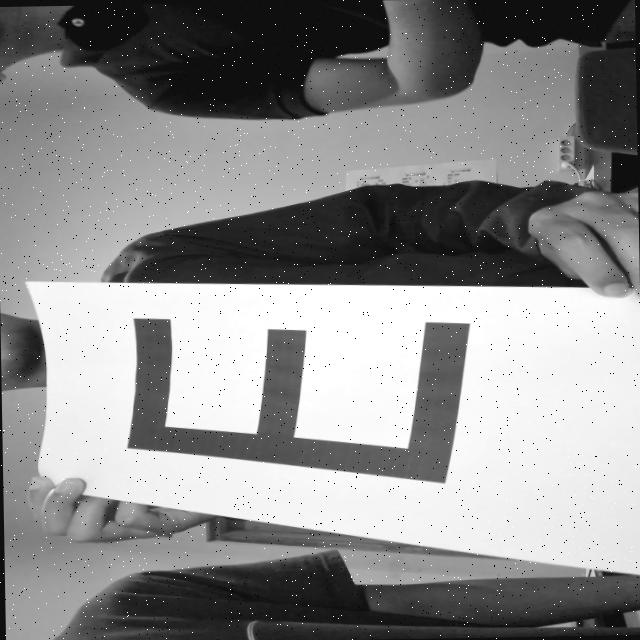e: (102, 296, 551, 496)
